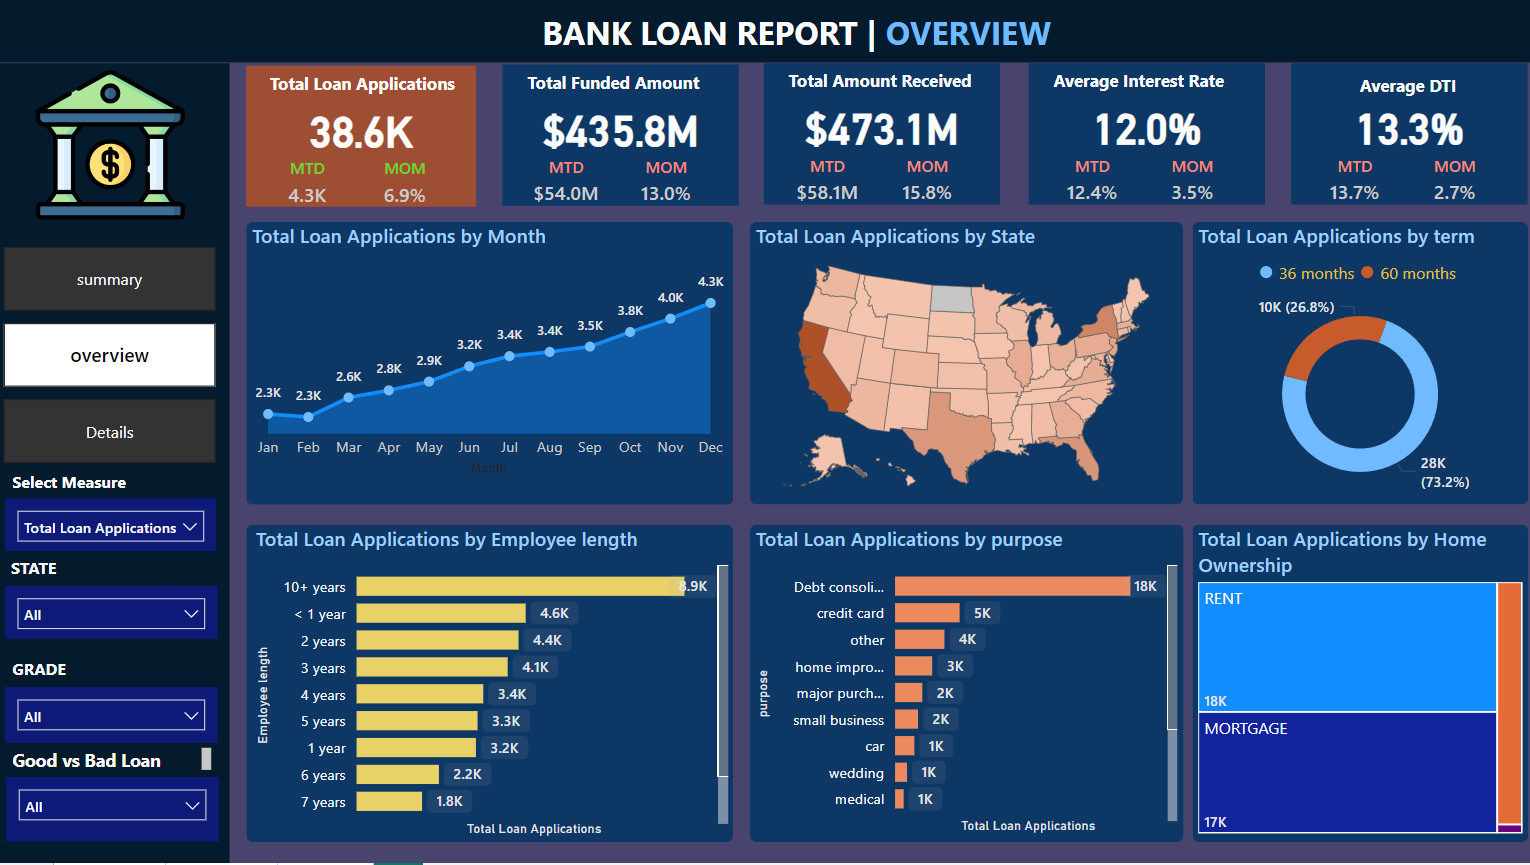

The dashboard page shown, as its layout file describes it:
{"tool":"powerbi","page":{"name":"overview","canvas":[1280,720],"ordinal":1},"visuals":[{"type":"shape","box":[639.5,54.7,196.4,117.4],"z":0,"group":"g3"},{"type":"shape","box":[859.4,54.7,196.4,117.4],"z":0,"group":"g4"},{"type":"shape","box":[1078.2,54.7,196.4,117.4],"z":0,"group":"g5"},{"type":"shape","box":[422,55.9,196.4,117.4],"z":0,"group":"g2"},{"type":"shape","box":[209.3,57,191.1,117.2],"z":0,"group":"g1"},{"type":"shape","box":[209.3,187.2,405,235],"z":0},{"type":"card","fields":{"Values":["financial_loan (1).Total Amount Received"]},"box":[639.5,83.8,196.4,46.5],"z":1000,"group":"g3"},{"type":"card","fields":{"Values":["financial_loan (1).AVG Interest Rate"]},"box":[859.4,83.8,196.4,46.5],"z":1000,"group":"g4"},{"type":"card","fields":{"Values":["financial_loan (1).Avg DTI"]},"box":[1078.2,83.8,196.4,46.5],"z":1000,"group":"g5"},{"type":"card","fields":{"Values":["financial_loan (1).Total Funded Amount"]},"box":[422,85,196.4,46.5],"z":1000,"group":"g2"},{"type":"card","fields":{"Values":["financial_loan (1).Total Loan Applications"]},"box":[209.3,86,191.1,46.4],"z":1000,"group":"g1"},{"type":"textbox","box":[9.3,351.2,196.5,36],"z":1000},{"type":"shape","box":[0,0,1280.2,54.7],"z":2000},{"type":"textbox","box":[654.7,54.7,196.4,36],"z":2000,"group":"g3"},{"type":"textbox","box":[874.6,54.7,196.4,36],"z":2000,"group":"g4"},{"type":"textbox","box":[437.2,55.9,196.4,36],"z":2000,"group":"g2"},{"type":"textbox","box":[224.1,57,191.1,36],"z":2000,"group":"g1"},{"type":"textbox","box":[1130.1,58.6,129.6,28.5],"z":2000,"group":"g5"},{"type":"shape","box":[0,54.9,195,665.5],"z":3000},{"type":"card","title":"MTD","fields":{"Values":["financial_loan (1).MTD Total Amount Received"]},"box":[654.7,130.3,74.8,41.9],"z":3000,"group":"g3"},{"type":"card","title":"MTD","fields":{"Values":["financial_loan (1).MTD AVG Interest Rate"]},"box":[874.6,130.3,74.8,41.9],"z":3000,"group":"g4"},{"type":"card","title":"MTD","fields":{"Values":["financial_loan (1).MTD AVG DTI"]},"box":[1093.4,130.3,74.8,41.9],"z":3000,"group":"g5"},{"type":"card","title":"MTD","fields":{"Values":["financial_loan (1).MTD Funded Amount"]},"box":[437.2,131.5,74.8,41.9],"z":3000,"group":"g2"},{"type":"card","title":"MTD","fields":{"Values":["financial_loan (1).MTD Loan Applications"]},"box":[224.1,132.4,72.8,41.8],"z":3000,"group":"g1"},{"type":"card","title":"MOM","fields":{"Values":["financial_loan (1).MOM Total Amount Received"]},"box":[737.7,130.3,74.8,41.9],"z":4000,"group":"g3"},{"type":"card","title":"MOM","fields":{"Values":["financial_loan (1).MOM AVG Interest Rate"]},"box":[957.6,130.3,74.8,41.9],"z":4000,"group":"g4"},{"type":"card","title":"MOM","fields":{"Values":["financial_loan (1).MOM Avg DTI"]},"box":[1176.4,130.3,74.8,41.9],"z":4000,"group":"g5"},{"type":"card","title":"MOM","fields":{"Values":["financial_loan (1).MOM Total Funded Amount"]},"box":[520.2,131.5,74.8,41.9],"z":4000,"group":"g2"},{"type":"card","title":"MOM","fields":{"Values":["financial_loan (1).MOM Loan Application"]},"box":[304.8,132.4,72.8,41.8],"z":4000,"group":"g1"},{"type":"textbox","box":[8.1,460.5,55.8,29.1],"z":4000},{"type":"textbox","box":[450.5,5.9,493.3,45.2],"z":5000},{"type":"group","id":"g1","title":"Group 1","box":[209.3,57,205.8,117.4],"z":6000},{"type":"group","id":"g2","title":"Group 1","box":[422,55.9,211.6,117.7],"z":7000},{"type":"group","id":"g3","title":"Group 1","box":[639.5,54.7,211.6,117.7],"z":8000},{"type":"group","id":"g4","title":"Group 1","box":[859.4,54.7,211.6,117.7],"z":9000},{"type":"group","id":"g5","title":"Group 1","box":[1078.2,54.7,196.1,117.7],"z":10000},{"type":"slicer","fields":{"Values":["financial_loan (1).address_state"]},"box":[8.1,489.5,176.7,44.2],"z":11000},{"type":"slicer","fields":{"Values":["financial_loan (1).grade"]},"box":[8.1,573.3,176.7,46.5],"z":12000},{"type":"textbox","box":[9.3,544.2,77.9,29.1],"z":13000},{"type":"slicer","fields":{"Values":["financial_loan (1).Good vs Bad Loan"]},"box":[9.3,648.8,176.7,53.5],"z":14000},{"type":"textbox","box":[9.3,619.8,175.6,29.1],"z":15000},{"type":"areaChart","fields":{"Y":["financial_loan (1).Total Loan Applications"],"Category":["Date Table.Month"]},"box":[209.3,187.2,404.7,215.1],"z":16000},{"type":"slicer","fields":{"Values":["Select Measure.Select Measure"]},"box":[8.1,416.3,175.6,44.2],"z":17000},{"type":"textbox","box":[9.3,388.4,119.8,27.9],"z":18000},{"type":"shape","box":[627.9,187.2,360,234.9],"z":19000},{"type":"shapeMap","fields":{"Value":["financial_loan (1).Total Loan Applications"],"Category":["financial_loan (1).address_state"]},"box":[627.9,187.2,360.5,234.9],"z":20000},{"type":"shape","box":[995.4,187.2,279.1,234.9],"z":21000},{"type":"donutChart","fields":{"Y":["financial_loan (1).Total Loan Applications"],"Category":["financial_loan (1).term"]},"box":[995.4,187.2,279.1,234.9],"z":22000},{"type":"shape","box":[209.3,438.4,404.7,264],"z":23000},{"type":"shape","box":[627.9,438.4,360.5,264],"z":24000},{"type":"shape","box":[995.4,438.4,279.1,264],"z":25000},{"type":"barChart","fields":{"Y":["financial_loan (1).Total Loan Applications"],"Category":["financial_loan (1).emp_length"]},"box":[211.6,438.4,402.3,264],"z":26000},{"type":"barChart","fields":{"Y":["financial_loan (1).Total Loan Applications"],"Category":["financial_loan (1).purpose"]},"box":[627.9,438.4,360.5,261.6],"z":27000},{"type":"treemap","fields":{"Values":["financial_loan (1).Total Loan Applications"],"Group":["financial_loan (1).home_ownership"]},"box":[995.4,438.4,279.1,261.6],"z":28000},{"type":"pageNavigator","box":[7,208.1,176.7,179.1],"z":29000},{"type":"image","box":[8.1,55.8,175.6,133.7],"z":30000}]}

Visuals, with their boxes on the page's 1280x720 design canvas (x1, y1, x2, y2). These are canvas units, not pixel positions in the 1530x865 screenshot, which may show the page scaled, cropped or inside an application window:
shape: 640 55 836 172
shape: 859 55 1056 172
shape: 1078 55 1275 172
shape: 422 56 618 173
shape: 209 57 400 174
shape: 209 187 614 422
card - financial_loan (1).Total Amount Received: 640 84 836 130
card - financial_loan (1).AVG Interest Rate: 859 84 1056 130
card - financial_loan (1).Avg DTI: 1078 84 1275 130
card - financial_loan (1).Total Funded Amount: 422 85 618 132
card - financial_loan (1).Total Loan Applications: 209 86 400 132
textbox: 9 351 206 387
shape: 0 0 1280 55
textbox: 655 55 851 91
textbox: 875 55 1071 91
textbox: 437 56 634 92
textbox: 224 57 415 93
textbox: 1130 59 1260 87
shape: 0 55 195 720
"MTD" card: 655 130 730 172
"MTD" card: 875 130 949 172
"MTD" card: 1093 130 1168 172
"MTD" card: 437 132 512 173
"MTD" card: 224 132 297 174
"MOM" card: 738 130 812 172
"MOM" card: 958 130 1032 172
"MOM" card: 1176 130 1251 172
"MOM" card: 520 132 595 173
"MOM" card: 305 132 378 174
textbox: 8 460 64 490
textbox: 450 6 944 51
"Group 1" group: 209 57 415 174
"Group 1" group: 422 56 634 174
"Group 1" group: 640 55 851 172
"Group 1" group: 859 55 1071 172
"Group 1" group: 1078 55 1274 172
slicer - financial_loan (1).address_state: 8 490 185 534
slicer - financial_loan (1).grade: 8 573 185 620
textbox: 9 544 87 573
slicer - financial_loan (1).Good vs Bad Loan: 9 649 186 702
textbox: 9 620 185 649
areaChart - financial_loan (1).Total Loan Applications x Date Table.Month: 209 187 614 402
slicer - Select Measure.Select Measure: 8 416 184 460
textbox: 9 388 129 416
shape: 628 187 988 422
shapeMap - financial_loan (1).Total Loan Applications x financial_loan (1).address_state: 628 187 988 422
shape: 995 187 1274 422
donutChart - financial_loan (1).Total Loan Applications x financial_loan (1).term: 995 187 1274 422
shape: 209 438 614 702
shape: 628 438 988 702
shape: 995 438 1274 702
barChart - financial_loan (1).Total Loan Applications x financial_loan (1).emp_length: 212 438 614 702
barChart - financial_loan (1).Total Loan Applications x financial_loan (1).purpose: 628 438 988 700
treemap - financial_loan (1).Total Loan Applications x financial_loan (1).home_ownership: 995 438 1274 700
pageNavigator: 7 208 184 387
image: 8 56 184 190
